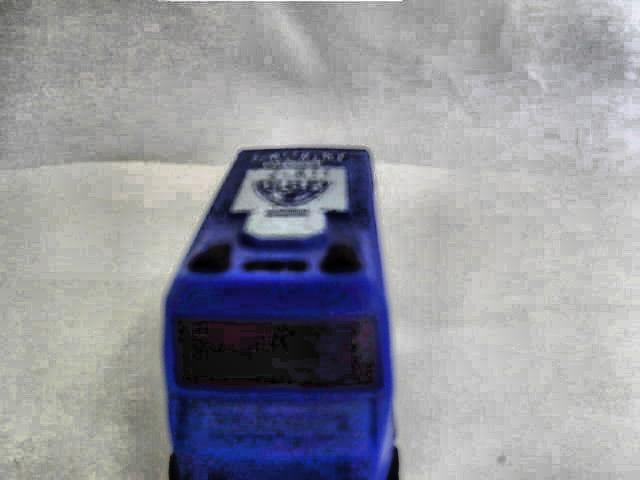police car: (155, 134, 409, 480)
